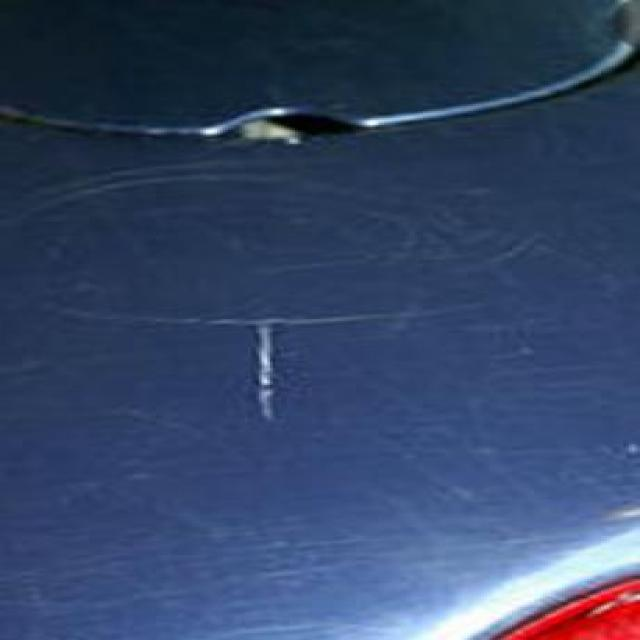scratch: (246, 300, 296, 425)
